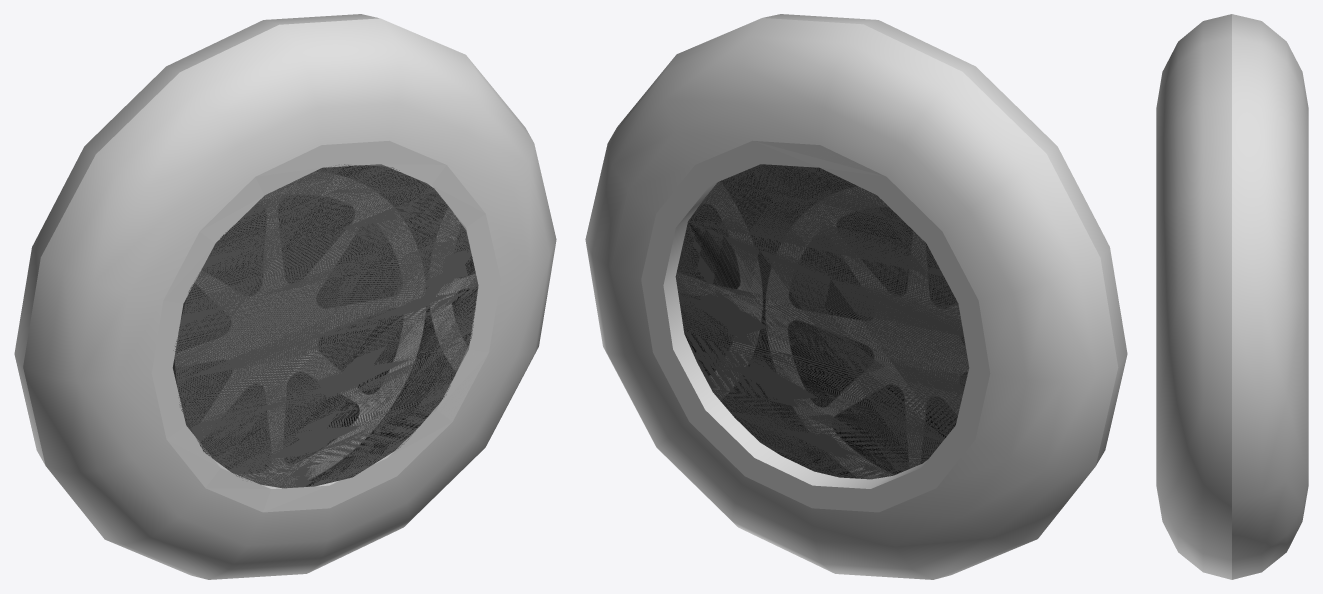
File: left_wheel_back.dae
3 views of the same model, side by side, from view 1: azimuth 30°, elevation 25°; view 2: azimuth 150°, elevation 25°; view 3: azimuth 270°, elevation 25° (orthographic). The views are drawn at different scales.
Visible parts, largest first — view 1: group_2, group_42.002; view 2: group_2, group_42; view 3: group_2.
Part boxes in pixels (<box>): group_2: <box>14,14,556,579</box>; group_42.002: <box>173,164,478,488</box>; group_2: <box>585,14,1127,579</box>; group_42: <box>675,164,969,479</box>; group_2: <box>1156,14,1308,579</box>.
Size of the model in its own units: 0.1199 by 0.0323 by 0.12.
3 materials, 1 textured.
